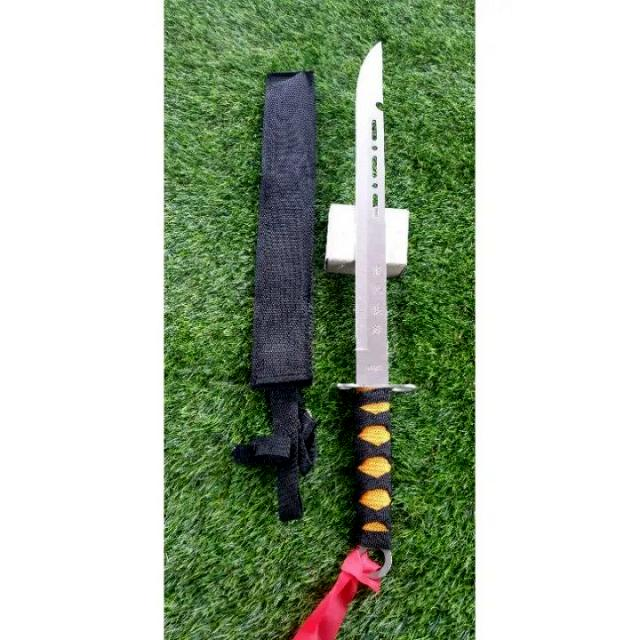short sword: (326, 12, 423, 640)
